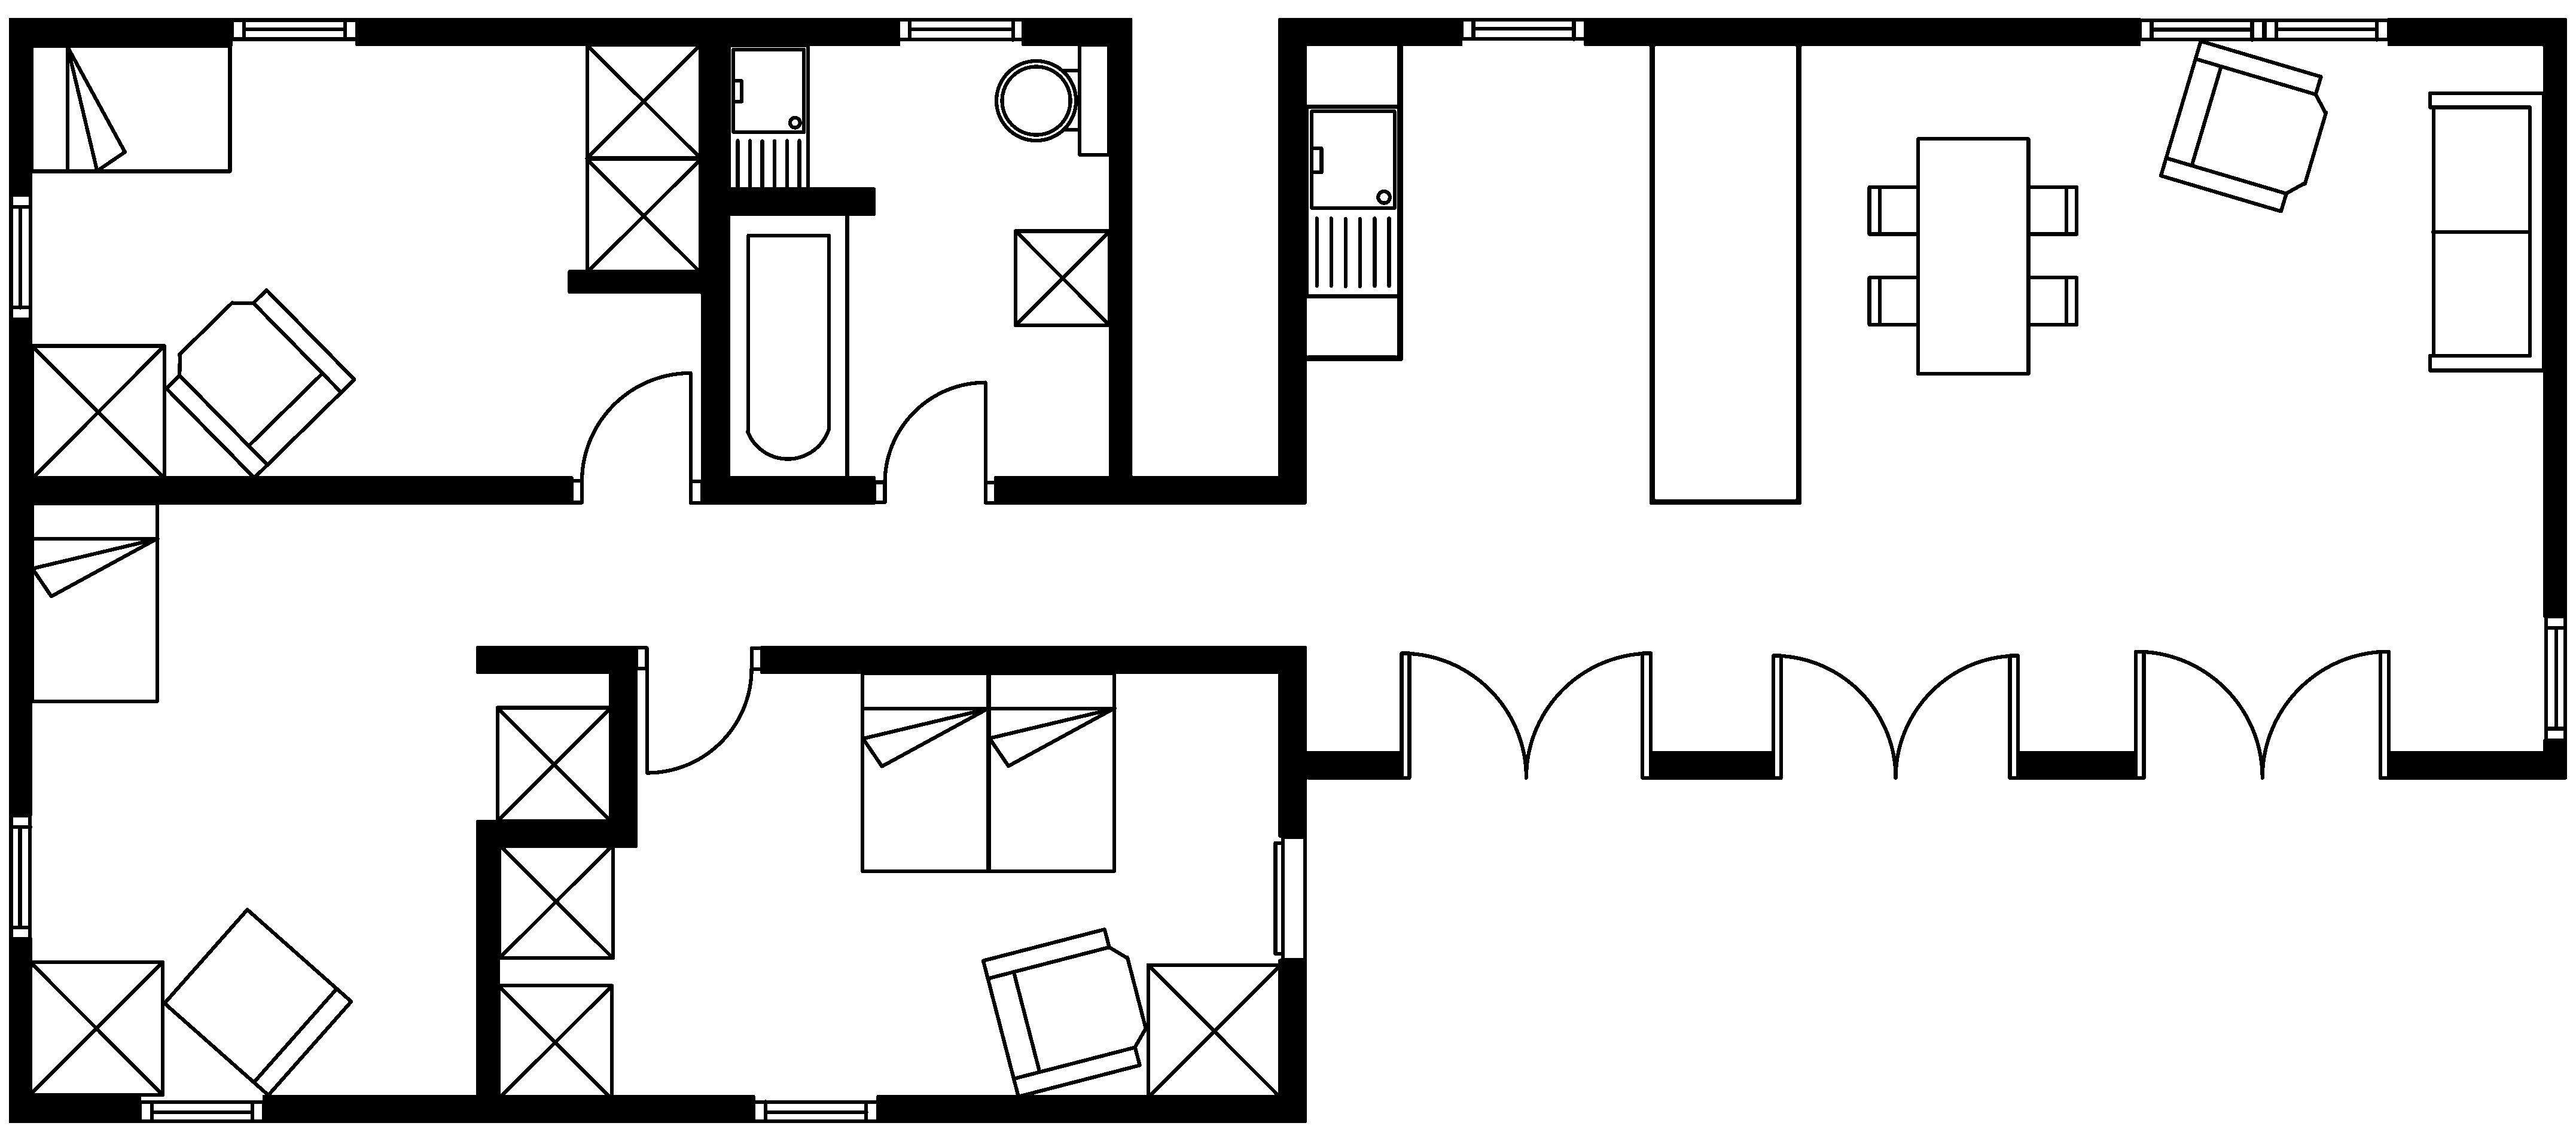armchair: (163, 288, 356, 480), (2159, 38, 2328, 214), (981, 927, 1148, 1099)
bed: (28, 501, 159, 703), (30, 43, 232, 174), (859, 670, 991, 872), (986, 670, 1117, 872)
coffee_table: (26, 959, 164, 1097), (1145, 963, 1283, 1099), (30, 343, 166, 480), (583, 41, 702, 161), (494, 982, 614, 1101), (494, 705, 613, 823), (496, 841, 614, 959), (585, 156, 702, 274), (1012, 228, 1112, 327)
dining_table: (1866, 136, 2078, 376)
large_sink: (994, 41, 1111, 156)
large_sofa: (2428, 90, 2545, 371)
sink: (1304, 104, 1401, 297), (726, 43, 810, 209)
small_sofa: (161, 907, 353, 1097)
tub: (726, 210, 849, 483)
